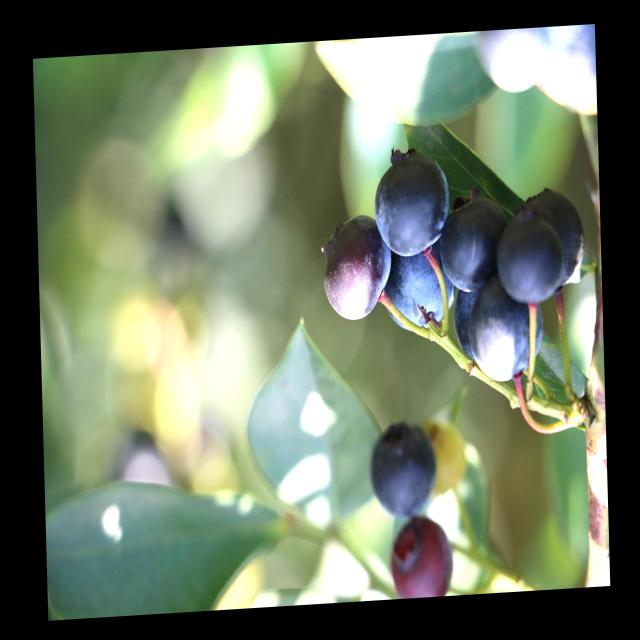blueberry: (468, 272, 546, 383), (374, 153, 452, 259), (320, 214, 391, 328), (386, 238, 456, 340), (519, 187, 587, 287), (372, 422, 437, 516), (496, 213, 562, 302), (440, 195, 499, 294), (385, 514, 453, 598)
